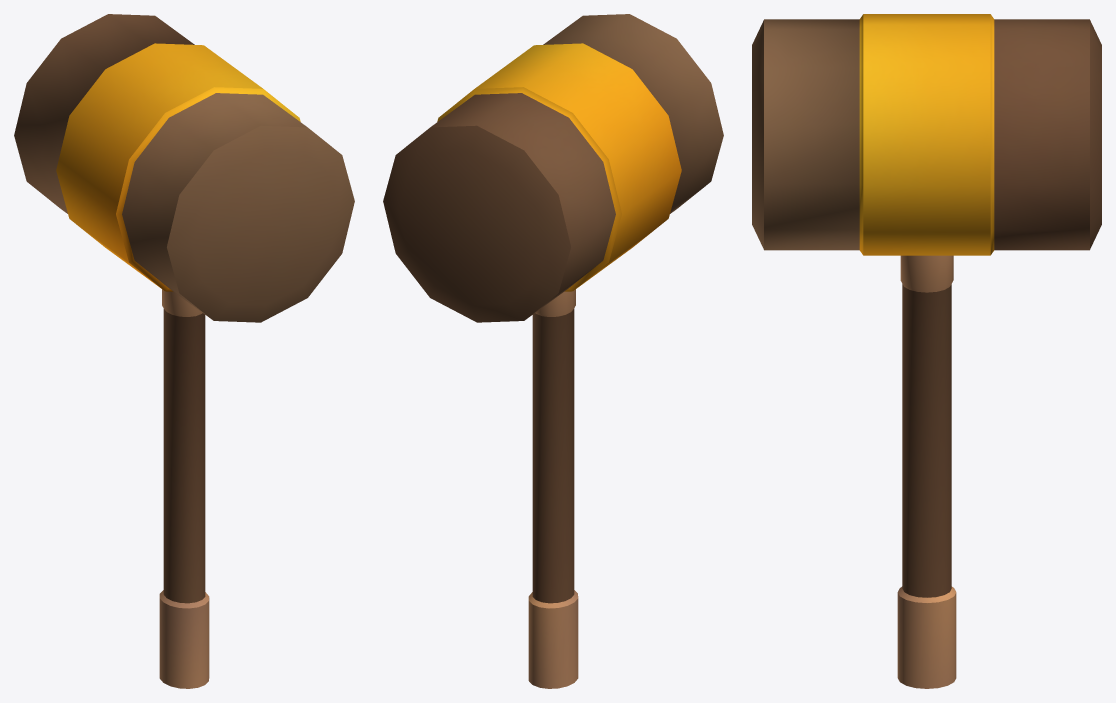
Rendered from hummer3.fbx.
3 renders of one model, left to right at view 1: azimuth 30°, elevation 25°; view 2: azimuth 150°, elevation 25°; view 3: azimuth 270°, elevation 25°, orthographic. The views are drawn at different scales.
Visible parts, largest first — view 1: hammer.001; view 2: hammer.001; view 3: hammer.001.
Part boxes in pixels (<box>): hammer.001: <box>14,14,354,688</box>; hammer.001: <box>383,14,723,688</box>; hammer.001: <box>752,14,1101,688</box>.
Size of the model in its own units: 0.4471 by 1.33 by 0.6448.
